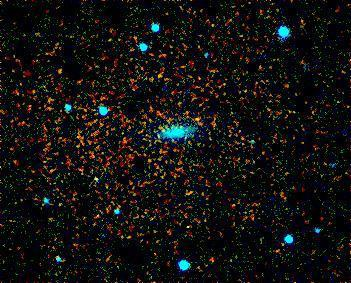star: (182, 104, 212, 134)
